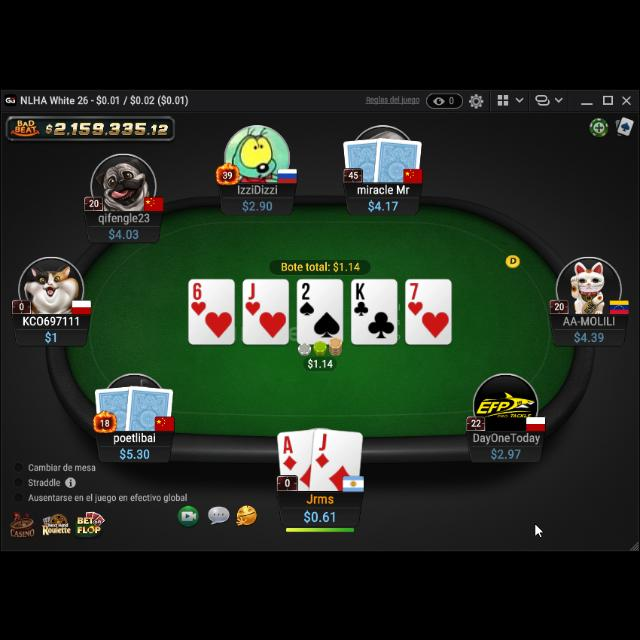2s: (298, 280, 316, 316)
6h: (190, 279, 206, 317)
7h: (406, 280, 424, 316)
Ad: (282, 434, 300, 472)
Jd: (314, 430, 332, 470)
Jh: (244, 281, 262, 317)
Kc: (353, 281, 371, 317)
bet_text: (306, 356, 336, 370)
card_back: (124, 382, 176, 432), (373, 136, 423, 182), (342, 137, 386, 183), (94, 385, 134, 433)
dealer: (505, 251, 523, 269)
pot_text: (280, 260, 362, 274)
stack_text: (303, 508, 337, 524), (366, 198, 399, 214), (242, 198, 276, 212), (106, 226, 140, 240), (118, 446, 152, 460), (490, 445, 522, 459), (572, 330, 606, 342), (43, 330, 59, 342)
